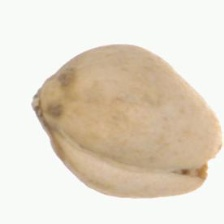L1: (179, 126, 222, 188), (30, 83, 54, 144)
L2: (31, 45, 221, 200)
